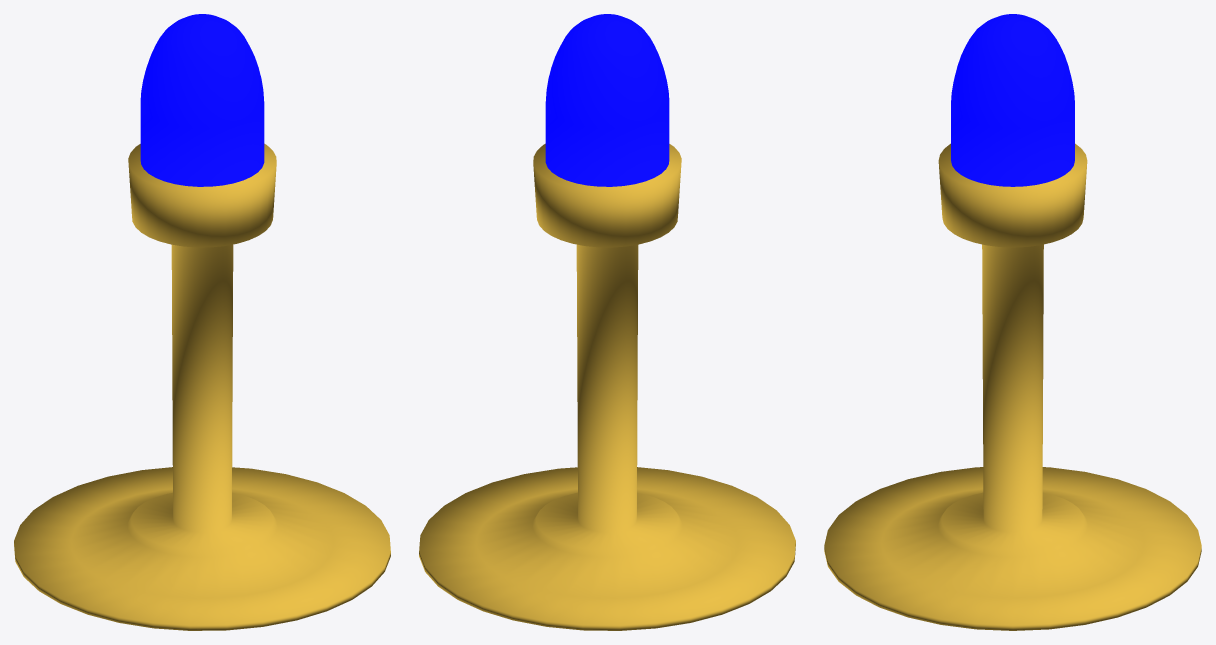
Rendered from tw_blue.glb.
3 renders of one model, left to right at view 1: azimuth 30°, elevation 25°; view 2: azimuth 150°, elevation 25°; view 3: azimuth 270°, elevation 25°, orthographic.
Visible parts, largest first — view 1: Circle; view 2: Circle; view 3: Circle.
Boxes of the visible parts, x1,y1,x2,y2 form: Circle: [14, 14, 390, 630]; Circle: [419, 14, 795, 630]; Circle: [824, 14, 1201, 630].
Size of the model in its own units: 0.6 by 0.935 by 0.6.
